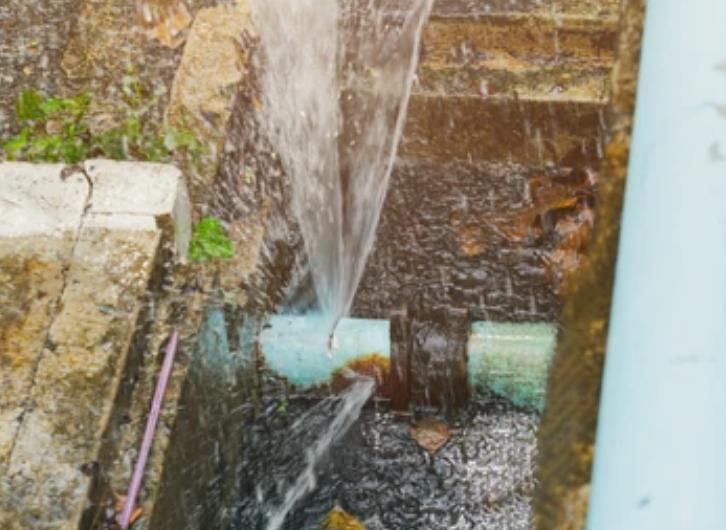pipe burst: (237, 0, 434, 348), (185, 368, 383, 530)
water accumulation: (221, 399, 537, 530), (351, 160, 585, 320)
